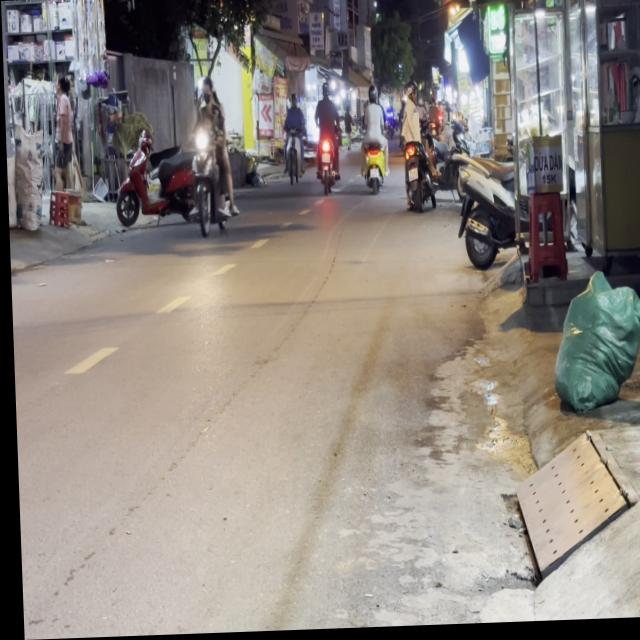licenseplate: (183, 75, 234, 239)
motorcyclist: (196, 77, 212, 107)
